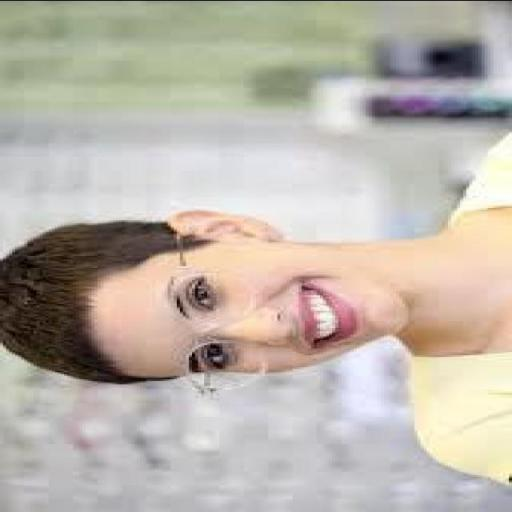glasses: (164, 244, 278, 402)
